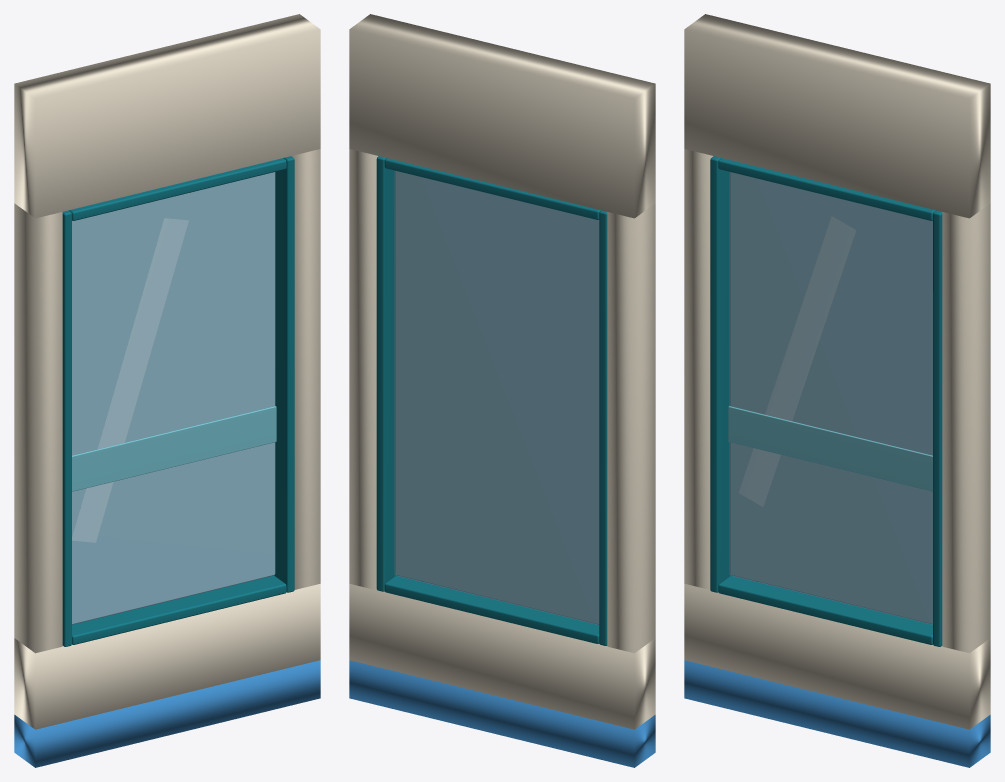
The model's file is Entrance_Sidelight_125.glb.
3 renders of one model, left to right at view 1: azimuth 30°, elevation 25°; view 2: azimuth 150°, elevation 25°; view 3: azimuth 330°, elevation 25°, orthographic.
Parts seen in each view (by area): view 1: Entrance_Sidelight_125__CRNA_Shared_Matte_Atlas, Entrance_Sidelight_125__Entrance_Glass, Entrance_Sidelight_125__Entrance_Opaque_Graphics_Atlas; view 2: Entrance_Sidelight_125__CRNA_Shared_Matte_Atlas, Entrance_Sidelight_125__Entrance_Glass; view 3: Entrance_Sidelight_125__CRNA_Shared_Matte_Atlas, Entrance_Sidelight_125__Entrance_Glass, Entrance_Sidelight_125__Entrance_Opaque_Graphics_Atlas.
Boxes of the visible parts, box(x1,y1,x2,y2) form: Entrance_Sidelight_125__CRNA_Shared_Matte_Atlas: box(14, 14, 320, 767); Entrance_Sidelight_125__Entrance_Glass: box(72, 172, 275, 624); Entrance_Sidelight_125__Entrance_Opaque_Graphics_Atlas: box(72, 218, 276, 542); Entrance_Sidelight_125__CRNA_Shared_Matte_Atlas: box(349, 14, 655, 767); Entrance_Sidelight_125__Entrance_Glass: box(394, 170, 599, 624); Entrance_Sidelight_125__CRNA_Shared_Matte_Atlas: box(684, 14, 990, 767); Entrance_Sidelight_125__Entrance_Glass: box(729, 172, 932, 624); Entrance_Sidelight_125__Entrance_Opaque_Graphics_Atlas: box(728, 216, 932, 506).
Size of the model in its own units: 1.25 by 2.8 by 0.18.
3 materials, 3 textured.
